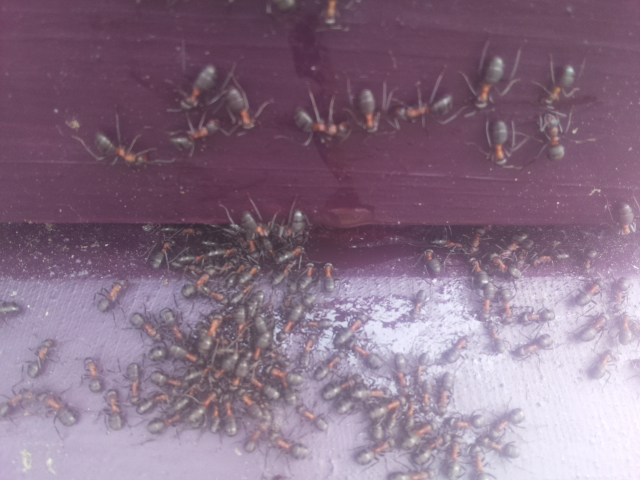ant: (168, 48, 227, 124), (462, 41, 511, 125), (86, 121, 155, 176), (117, 302, 181, 361), (286, 101, 359, 149), (533, 52, 586, 114), (270, 287, 323, 347), (390, 86, 457, 132), (32, 382, 87, 437), (163, 110, 229, 155), (215, 78, 264, 135), (138, 398, 204, 439), (20, 327, 64, 388), (234, 207, 281, 257), (479, 112, 516, 170), (348, 82, 386, 138), (122, 354, 154, 420), (177, 269, 230, 307), (92, 271, 134, 318), (484, 403, 532, 444), (142, 227, 181, 273), (156, 303, 194, 347), (315, 372, 367, 404), (535, 109, 568, 159), (263, 430, 314, 461), (101, 382, 130, 436), (329, 314, 369, 353), (350, 433, 397, 466), (0, 379, 35, 423), (214, 391, 241, 448), (291, 401, 333, 435), (575, 309, 612, 347), (241, 413, 272, 453), (245, 372, 284, 403), (513, 330, 554, 359), (586, 344, 614, 384), (279, 206, 309, 243), (84, 349, 107, 397), (437, 334, 471, 366), (479, 436, 524, 460), (615, 198, 640, 238), (254, 306, 270, 363), (351, 343, 381, 369), (574, 280, 602, 307), (496, 255, 525, 281), (421, 245, 446, 274), (436, 371, 455, 409), (320, 262, 339, 291), (409, 287, 425, 319), (502, 286, 514, 323)
